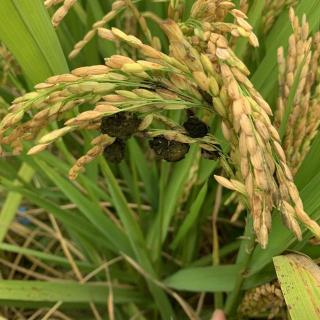Gosong-Palsu: (100, 112, 142, 164), (148, 132, 190, 164), (180, 112, 211, 140), (199, 141, 225, 163)
